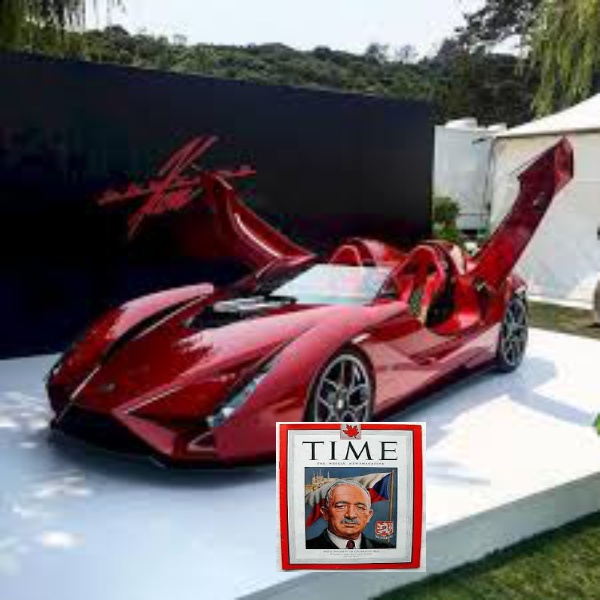time_cover: (269, 407, 426, 571)
